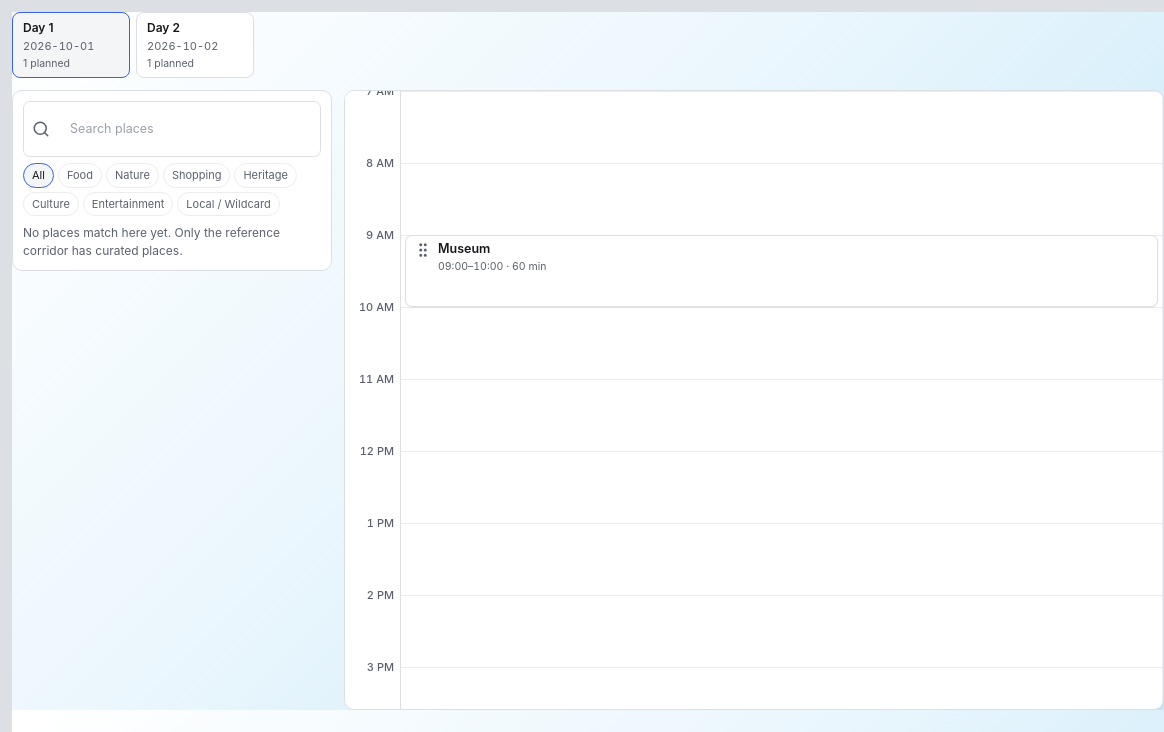
Scenario: TimelinePane date selection › switches days from the date strip and shows that day's blocks
(page scrolled)
Expected: the text "Museum" is shown, [438, 241, 490, 256]
What coordinates should you click on to do the following:
click the tab "Day 2 2026-10-02 1 planned"
I would click on:
 (195, 45)
Its box is [136, 12, 254, 78].
(page scrolled)
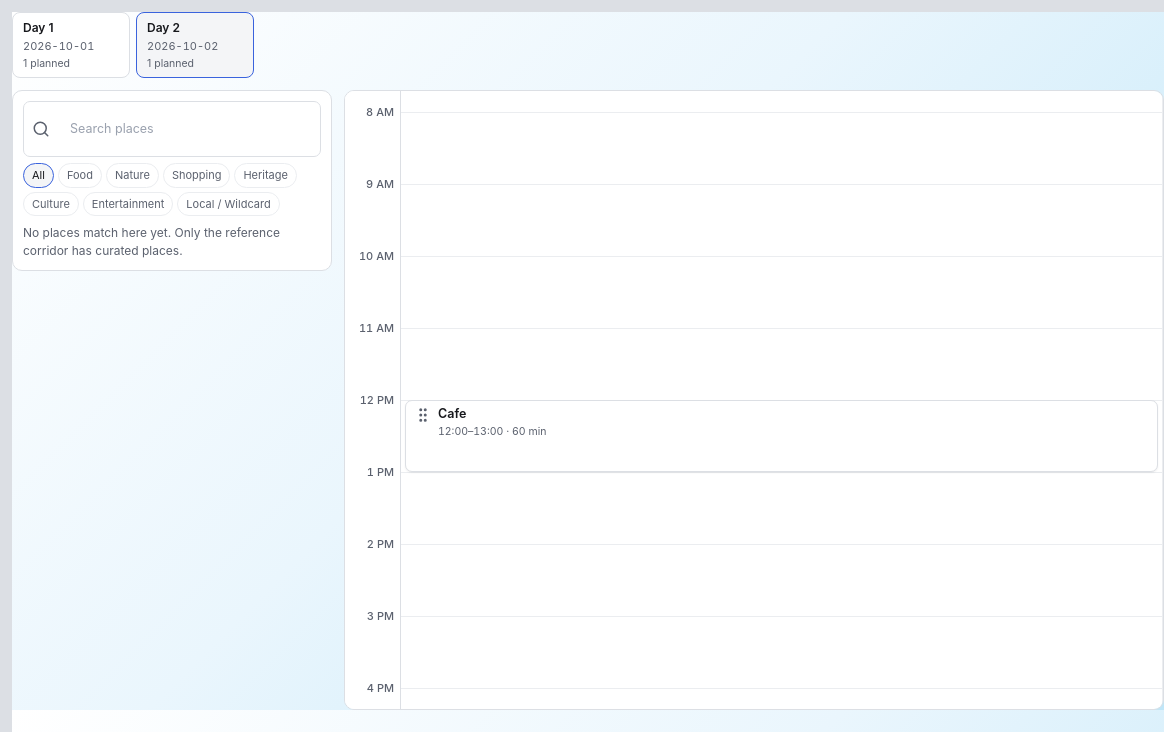
Expected: the text "Cafe" is shown, [438, 406, 466, 421]
Expected: the button "Museum" is gone
